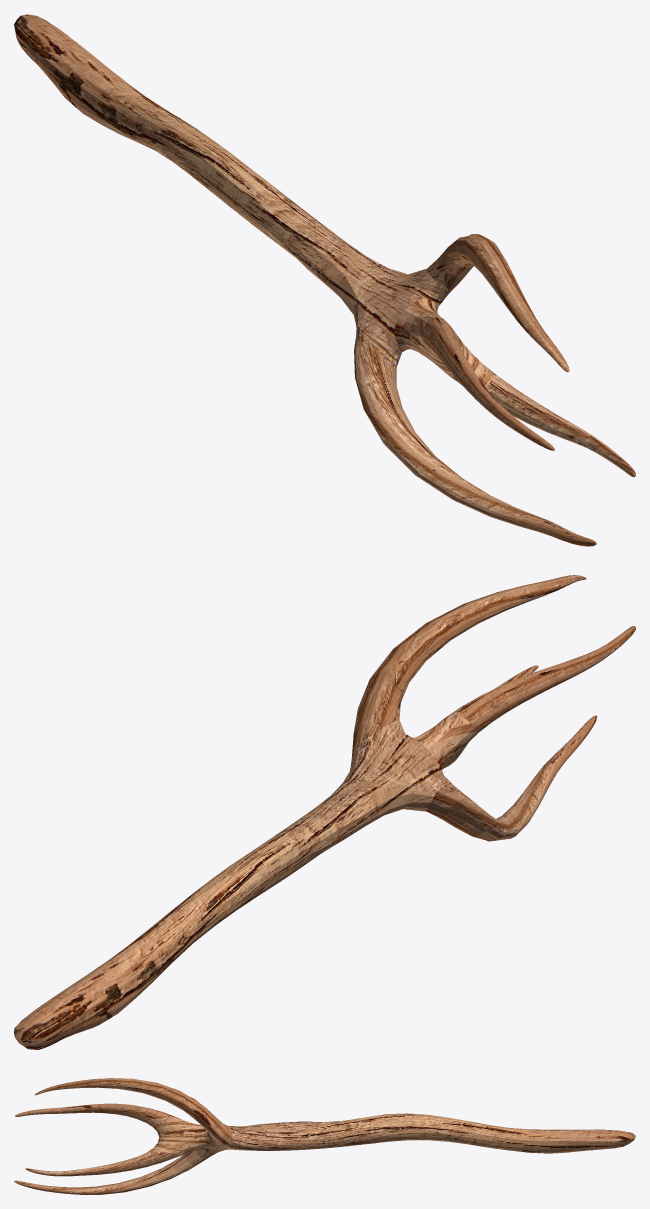
Rendered from Wand.fbx.
The picture shows the model from 3 angles, top to bottom: view 1: azimuth 30°, elevation 25°; view 2: azimuth 150°, elevation 25°; view 3: azimuth 270°, elevation 25°; orthographic projection. The views are drawn at different scales.
Parts seen in each view (by area): view 1: Cube; view 2: Cube; view 3: Cube.
Part boxes in pixels (x1,y1,x2,y2): Cube: [14, 14, 635, 546]; Cube: [14, 575, 635, 1049]; Cube: [14, 1078, 635, 1194].
Size of the model in its own units: 8.72 by 15.4 by 71.63.
